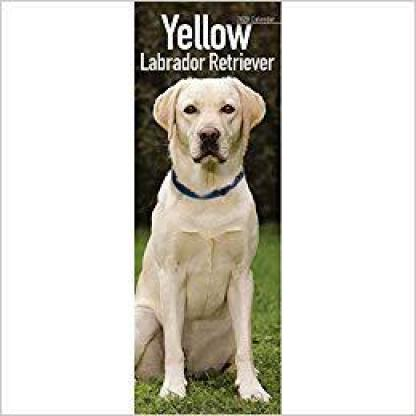Labarador Retriever: (43, 74, 267, 405)
